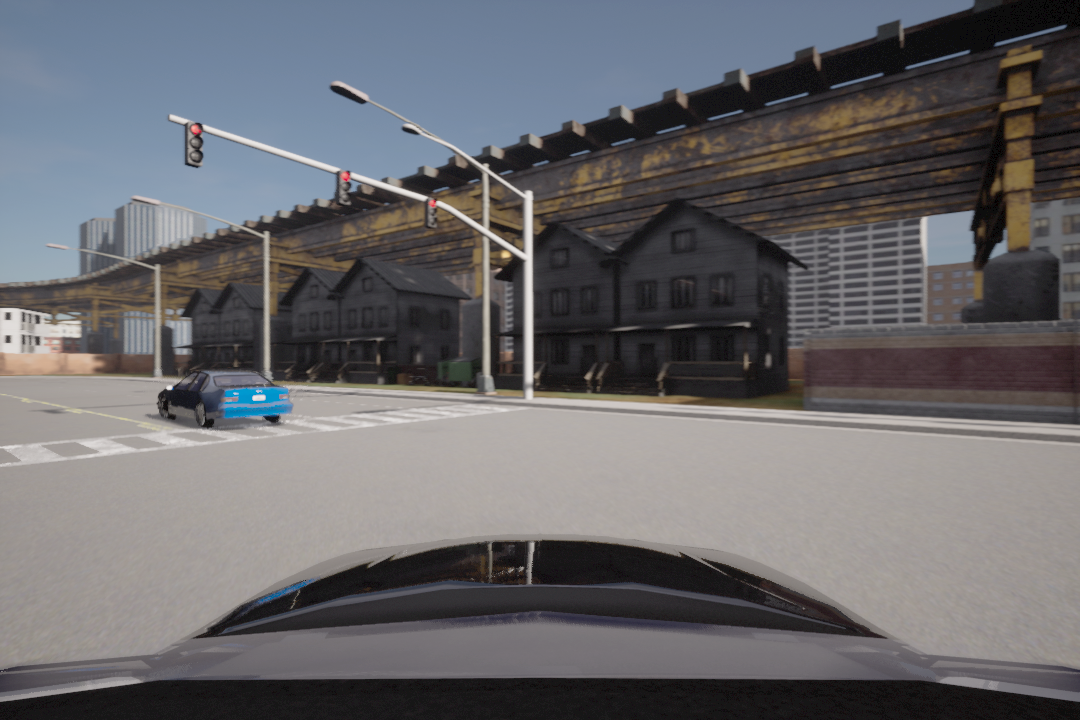TrafficLight: (181, 122, 202, 163), (337, 167, 357, 209), (421, 193, 438, 230)
walkside: (1, 403, 531, 469)
